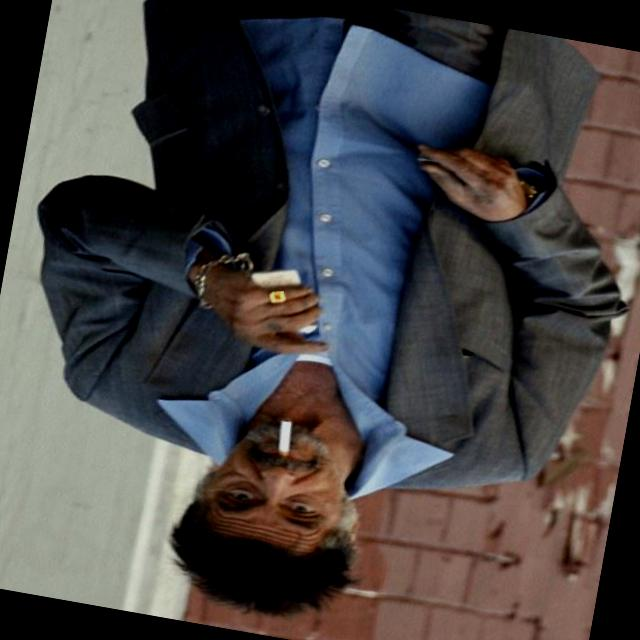cigarette: (258, 390, 322, 470)
